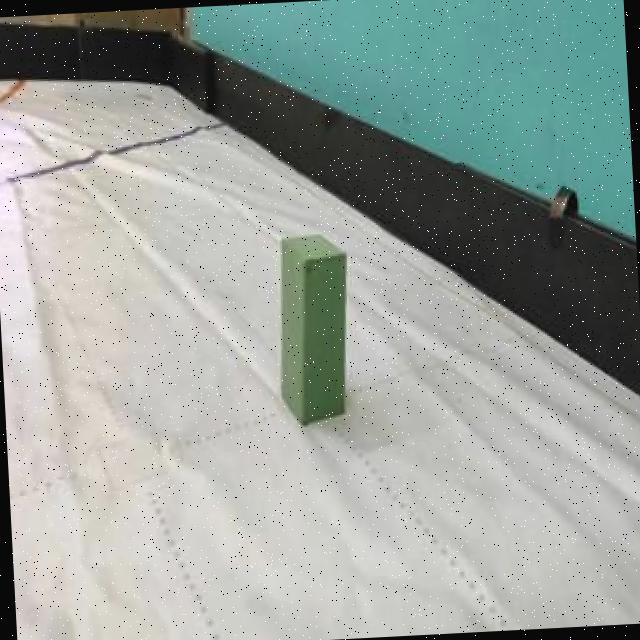greenbox: (274, 229, 356, 430)
